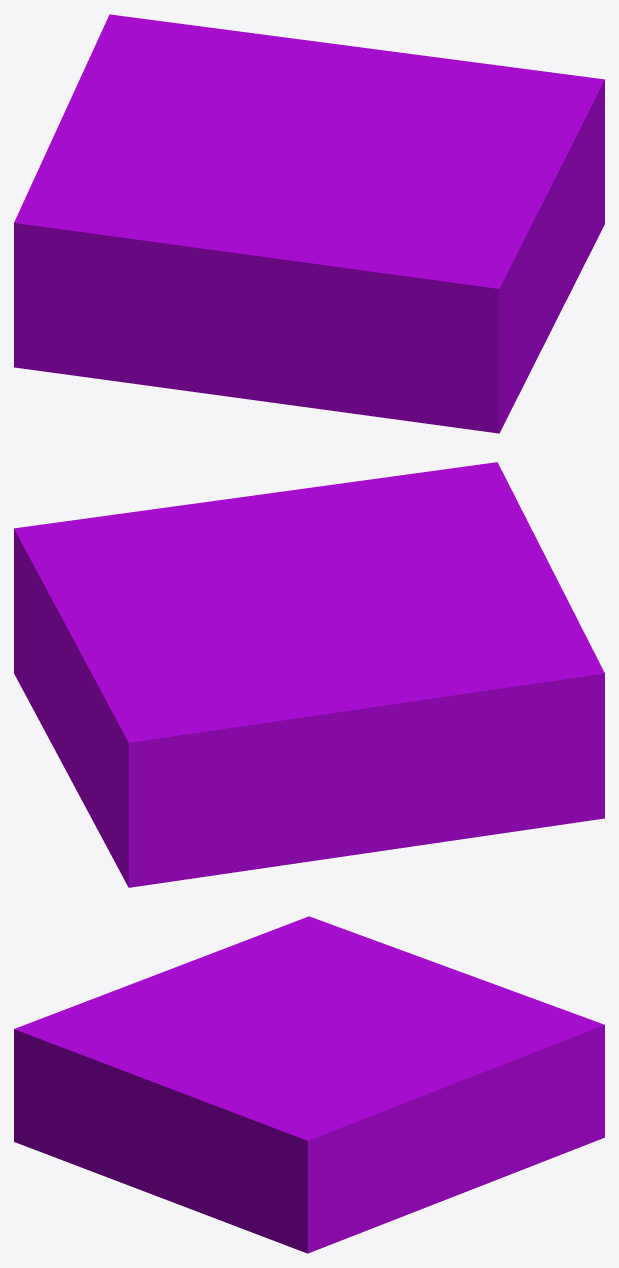
The model's file is Puzzle2Rhombus.fbx.
3 views of the same model, one above another, from view 1: azimuth 30°, elevation 25°; view 2: azimuth 150°, elevation 25°; view 3: azimuth 270°, elevation 25° (orthographic). The views are drawn at different scales.
Parts seen in each view (by area): view 1: RhombusBlock; view 2: RhombusBlock; view 3: RhombusBlock.
Boxes of the visible parts, left/top/right/bottom form: RhombusBlock: left=14, top=14, right=604, bottom=433; RhombusBlock: left=14, top=462, right=604, bottom=887; RhombusBlock: left=14, top=916, right=604, bottom=1253.
Size of the model in its own units: 75.58 by 17.7 by 84.04.
